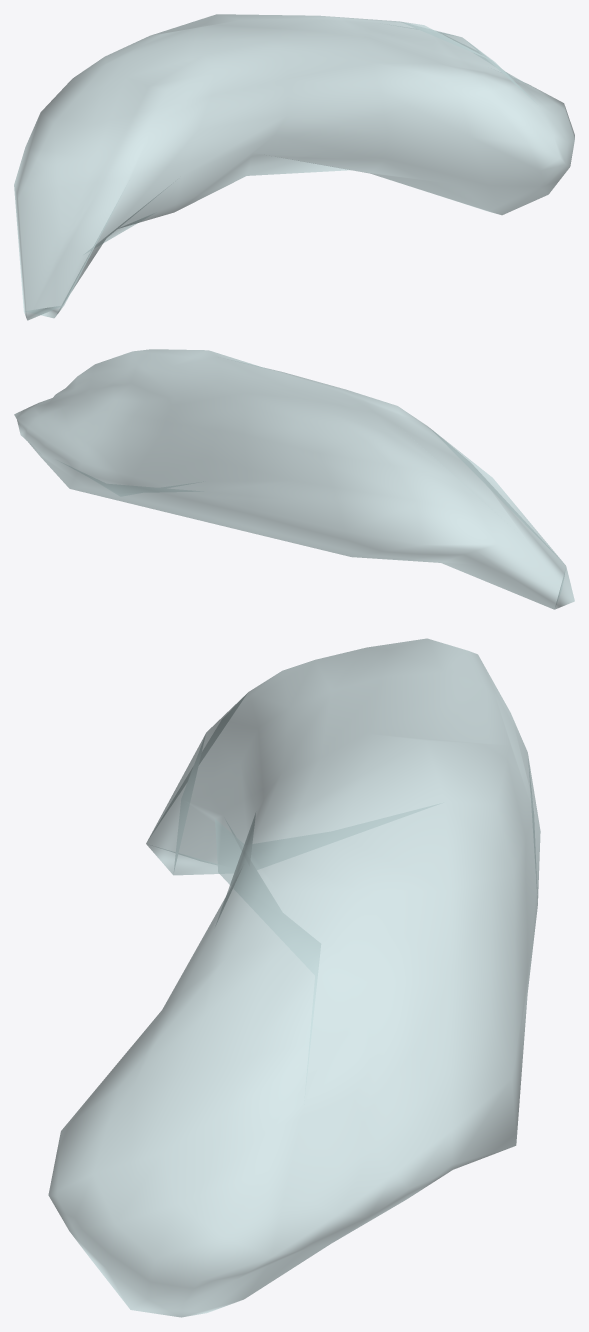
Rendered from domdai.fbx.
3 views of the same model, one above another, from view 1: azimuth 30°, elevation 25°; view 2: azimuth 150°, elevation 25°; view 3: azimuth 270°, elevation 25° (orthographic). The views are drawn at different scales.
Visible parts, largest first — view 1: domdai; view 2: domdai; view 3: domdai.
Part boxes in pixels (<box>): domdai: <box>14,14,574,320</box>; domdai: <box>14,349,574,609</box>; domdai: <box>48,638,540,1317</box>.
Bounding box in the file's own units: 1.61 × 0.5518 × 0.6303.
